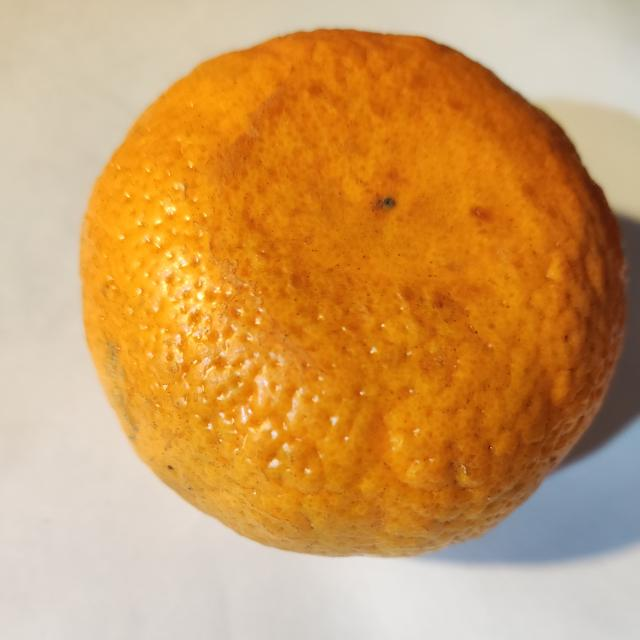orange: (82, 31, 624, 555)
